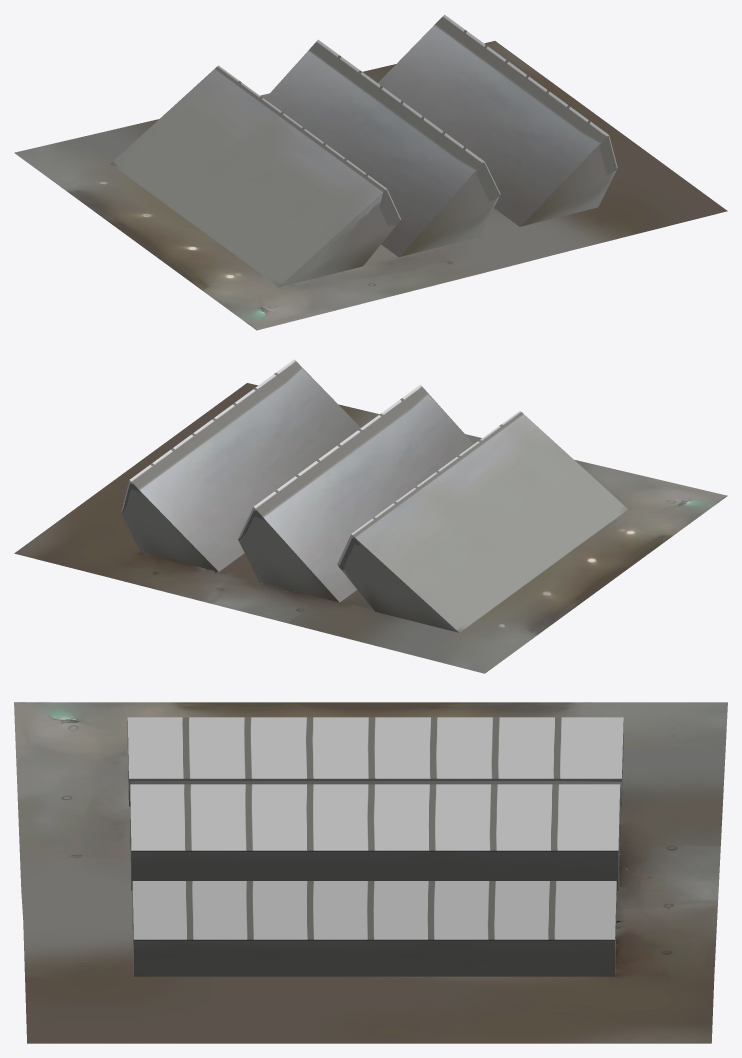
File: ROOF-4LP.fbx
3 renders of one model, top to bottom at view 1: azimuth 30°, elevation 25°; view 2: azimuth 150°, elevation 25°; view 3: azimuth 270°, elevation 25°, orthographic. The views are drawn at different scales.
Parts seen in each view (by area): view 1: ROOF-4LP; view 2: ROOF-4LP; view 3: ROOF-4LP.
Boxes of the visible parts, x1,y1,x2,y2 form: ROOF-4LP: (14, 14, 727, 330); ROOF-4LP: (14, 359, 727, 673); ROOF-4LP: (14, 702, 727, 1043).
Bounding box in the file's own units: 1408 × 211 × 1245.
1 material, 1 textured.
